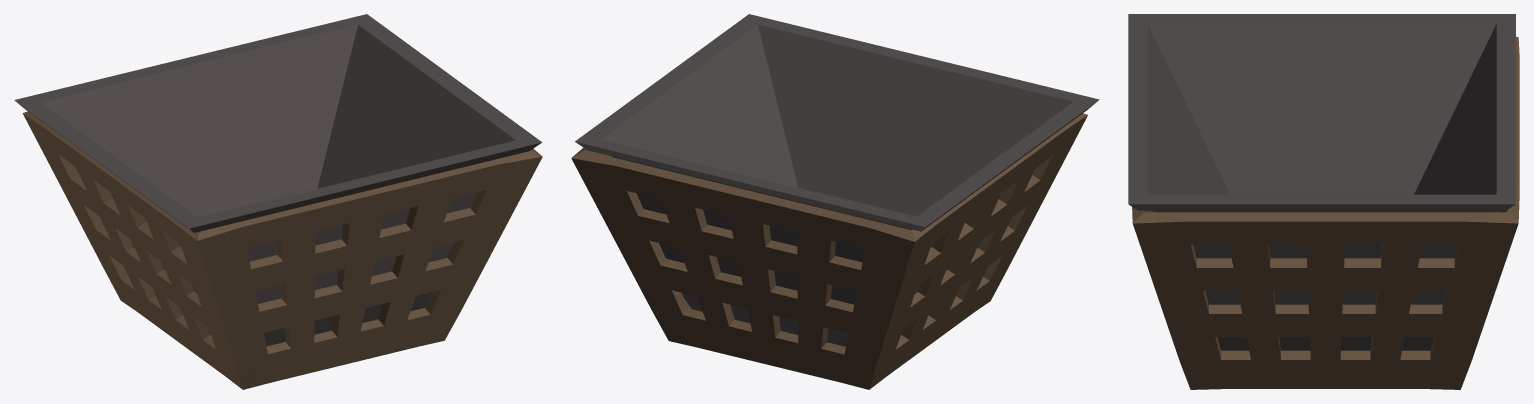
Rendered from Basura 1.fbx.
3 renders of one model, left to right at view 1: azimuth 30°, elevation 25°; view 2: azimuth 150°, elevation 25°; view 3: azimuth 270°, elevation 25°, orthographic. The views are drawn at different scales.
Visible parts, largest first — view 1: Bolsa, Tacho; view 2: Bolsa, Tacho; view 3: Bolsa, Tacho.
Boxes of the visible parts, left/top/right/bottom form: Bolsa: left=14, top=14, right=541, bottom=346; Tacho: left=22, top=111, right=542, bottom=389; Bolsa: left=575, top=14, right=1099, bottom=346; Tacho: left=571, top=113, right=1087, bottom=389; Bolsa: left=1128, top=14, right=1515, bottom=350; Tacho: left=1132, top=36, right=1519, bottom=389.
Size of the model in its own units: 2.96 by 1.61 by 2.55.
